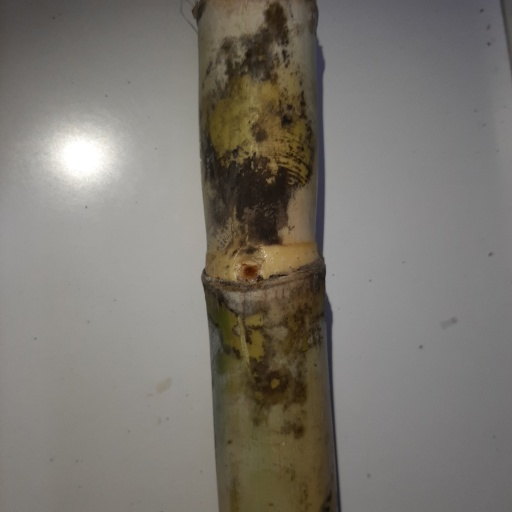Damage_Bud: (233, 256, 262, 282)
